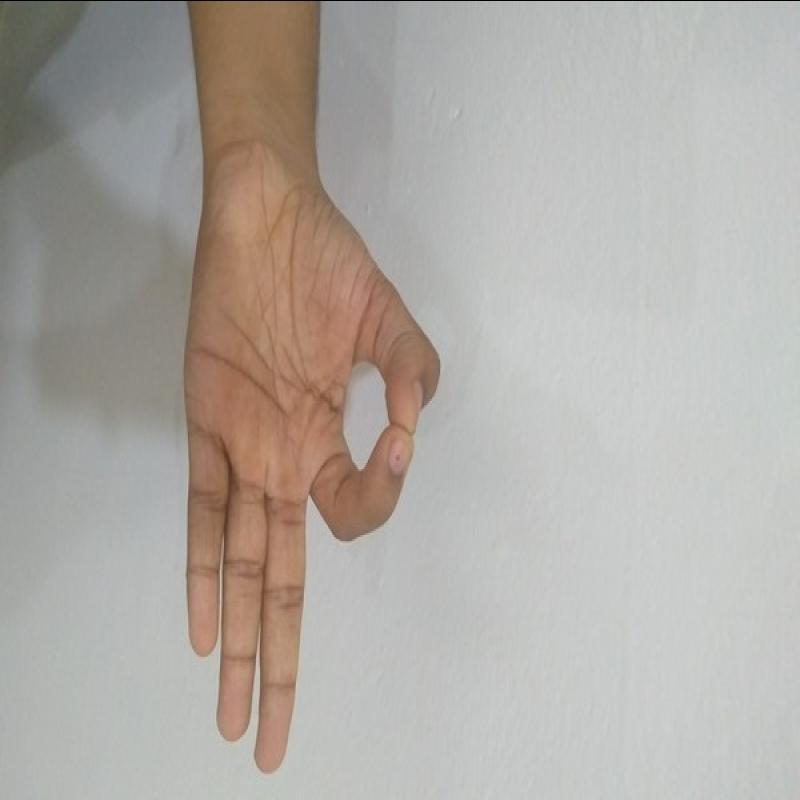Mudraakhyam: (156, 162, 453, 782)
